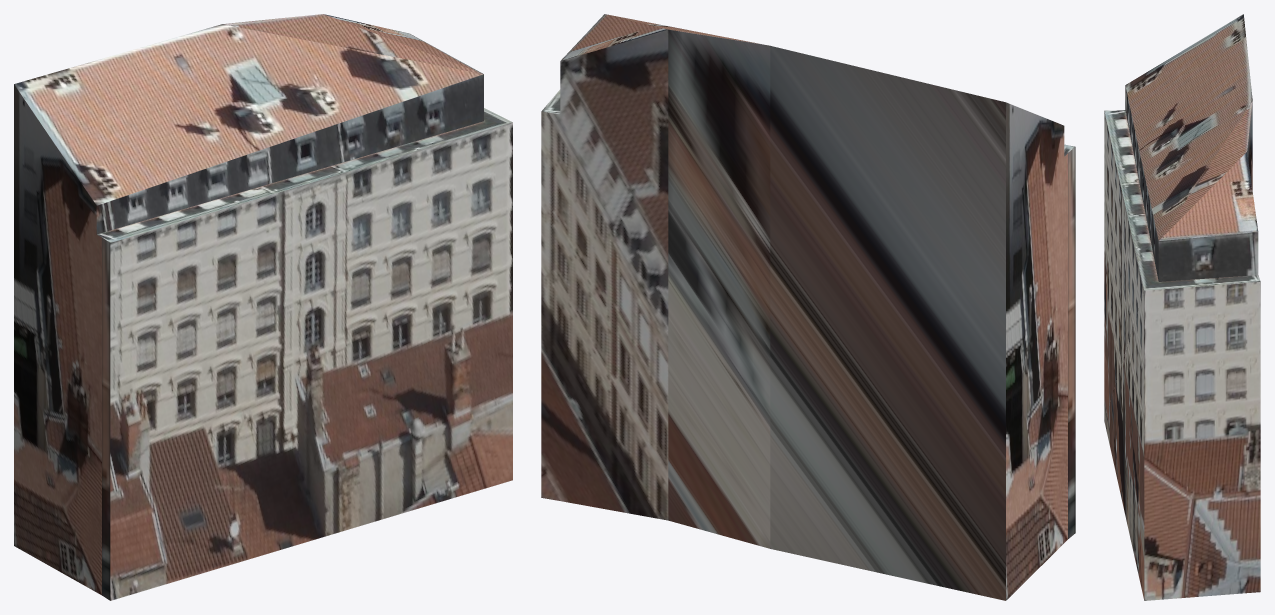
The picture shows the model from 3 angles, left to right: view 1: azimuth 30°, elevation 25°; view 2: azimuth 150°, elevation 25°; view 3: azimuth 270°, elevation 25°; orthographic projection. The views are drawn at different scales.
Parts seen in each view (by area): view 1: Z_UP; view 2: Z_UP; view 3: Z_UP.
Part boxes in pixels (bbox=[...]): Z_UP: bbox=[14, 14, 512, 600]; Z_UP: bbox=[541, 14, 1075, 600]; Z_UP: bbox=[1104, 14, 1260, 600].
Bounding box in the file's own units: 26.42 × 26.65 × 9.35.
2 materials, 1 textured.
